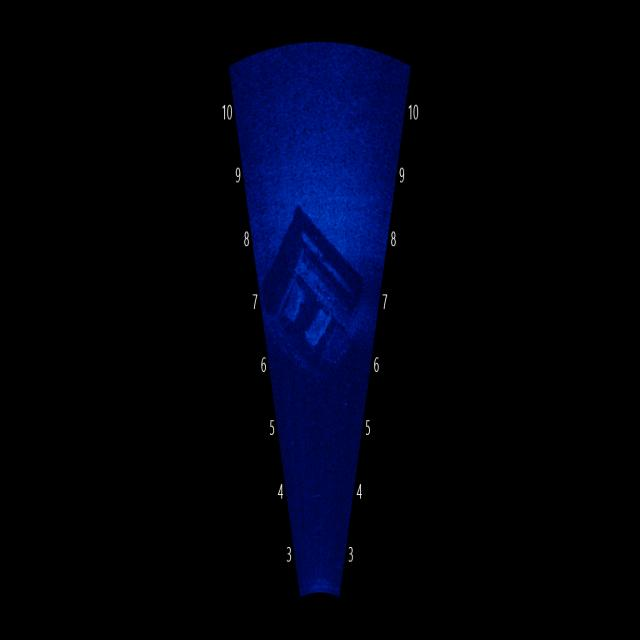square: (262, 161, 369, 389)
